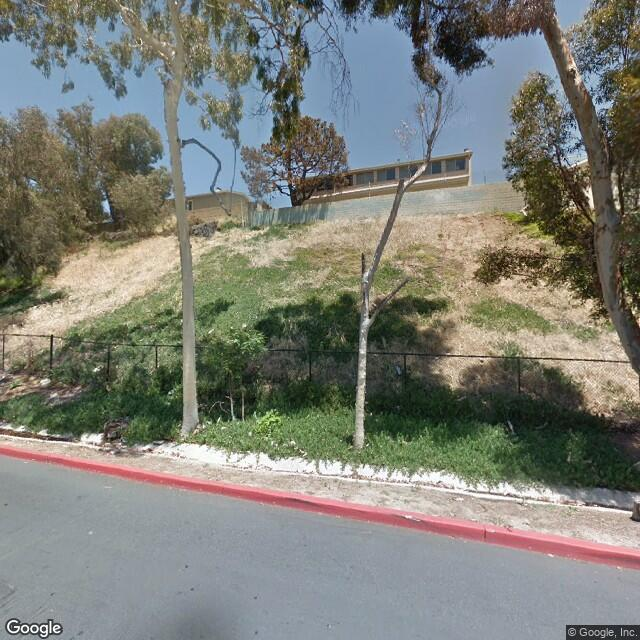litter: (104, 418, 132, 442), (297, 445, 308, 461), (37, 377, 52, 387), (393, 363, 403, 374), (507, 421, 517, 432), (544, 553, 560, 558), (613, 565, 628, 570), (1, 417, 9, 425)
